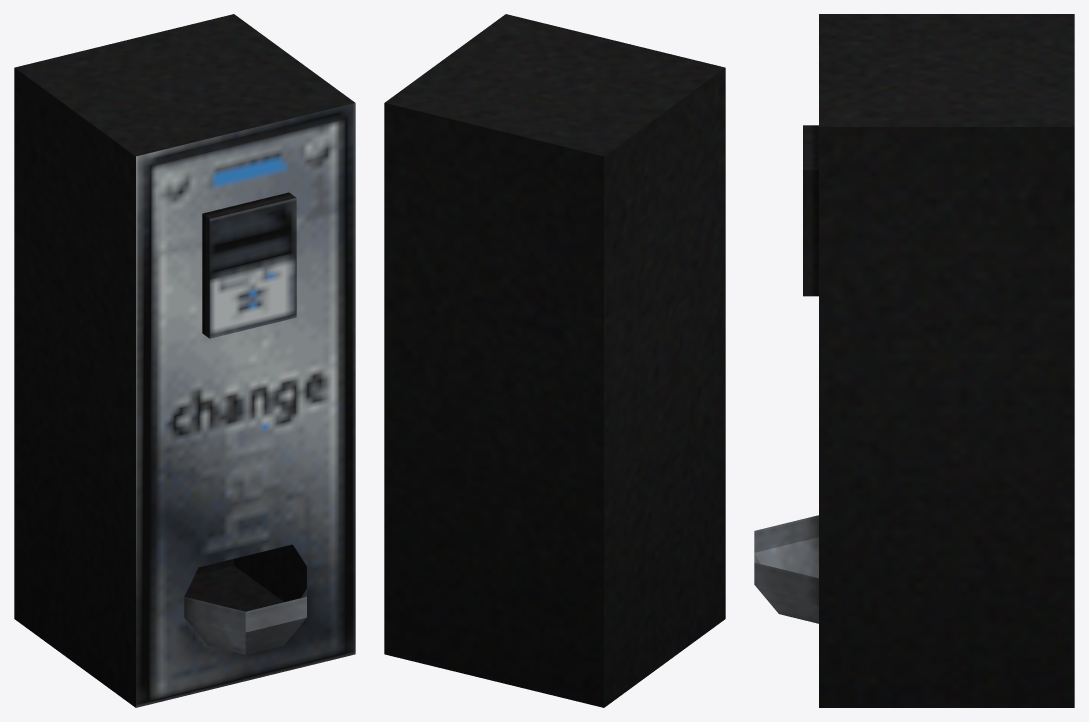
Rendered from coin-changer.obj.
3 views of the same model, side by side, from view 1: azimuth 30°, elevation 25°; view 2: azimuth 150°, elevation 25°; view 3: azimuth 270°, elevation 25° (orthographic). The views are drawn at different scales.
Parts seen in each view (by area): view 1: coin-changer-col; view 2: coin-changer-col; view 3: coin-changer-col.
Part boxes in pixels (left/top/right/bottom): coin-changer-col: left=14, top=14, right=355, bottom=707; coin-changer-col: left=384, top=14, right=725, bottom=707; coin-changer-col: left=754, top=14, right=1074, bottom=707.
Bounding box in the file's own units: 0.2223 × 0.5334 × 0.2667.
